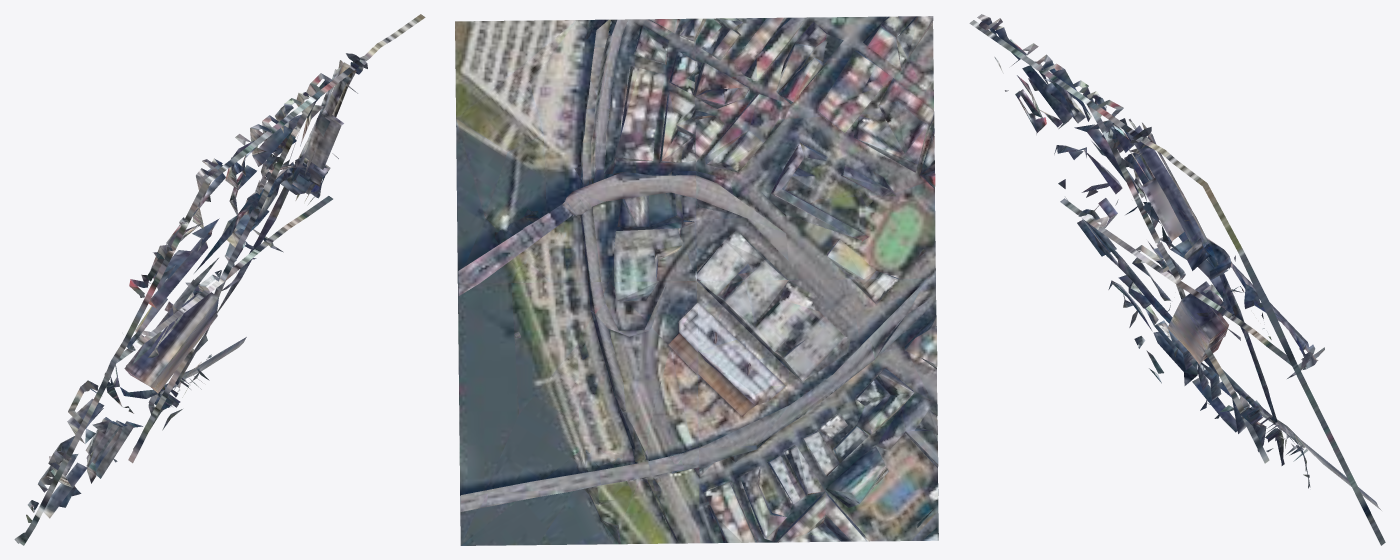
3 renders of one model, left to right at view 1: azimuth 30°, elevation 25°; view 2: azimuth 150°, elevation 25°; view 3: azimuth 270°, elevation 25°, orthographic. The views are drawn at different scales.
Size of the model in its own units: 617 by 565 by 513.
2 materials, 2 textured.
